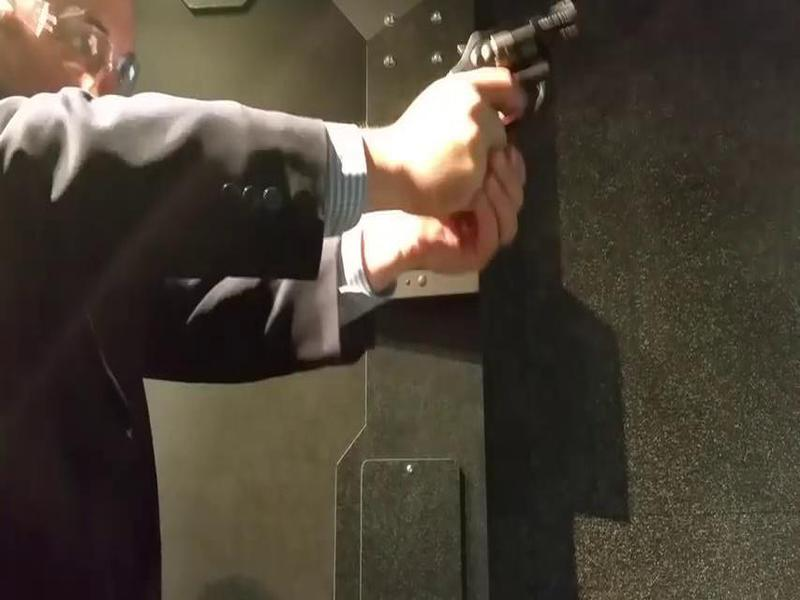Revolver: (417, 1, 619, 176)
